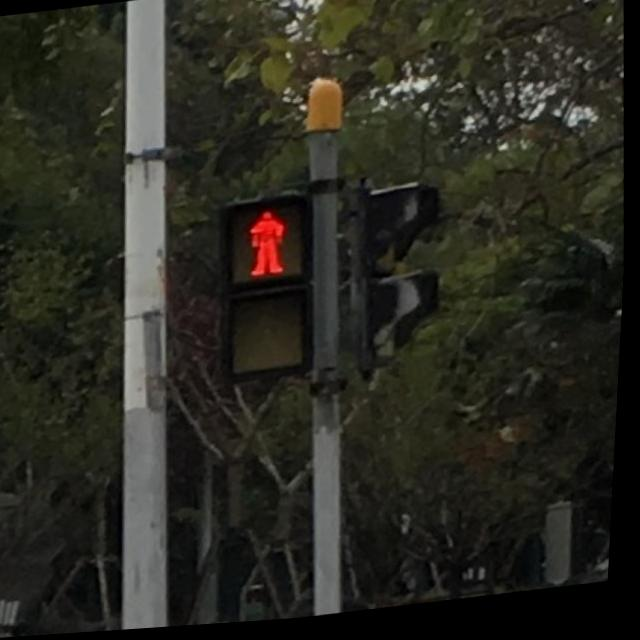red_light: (226, 204, 311, 291)
